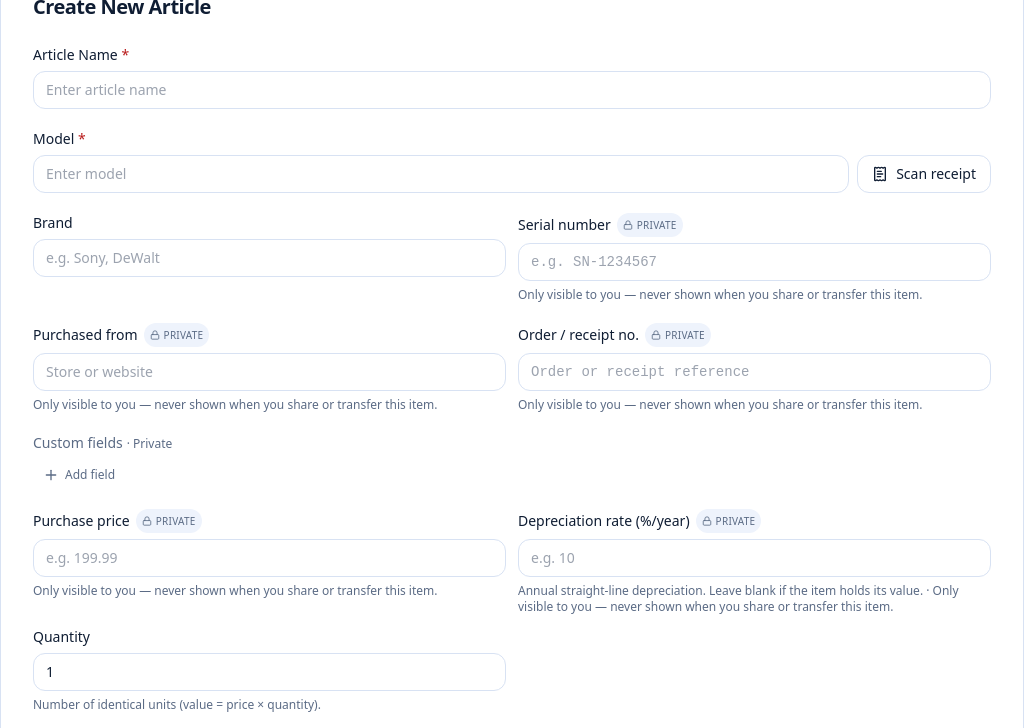
Test: <ArticleForm /> › rejects a negative purchase price with a localized message
This screenshot has width=1024, height=728.
In the field labelled "Article Name *": point(512, 90) [33,71,991,109], type "Drill"
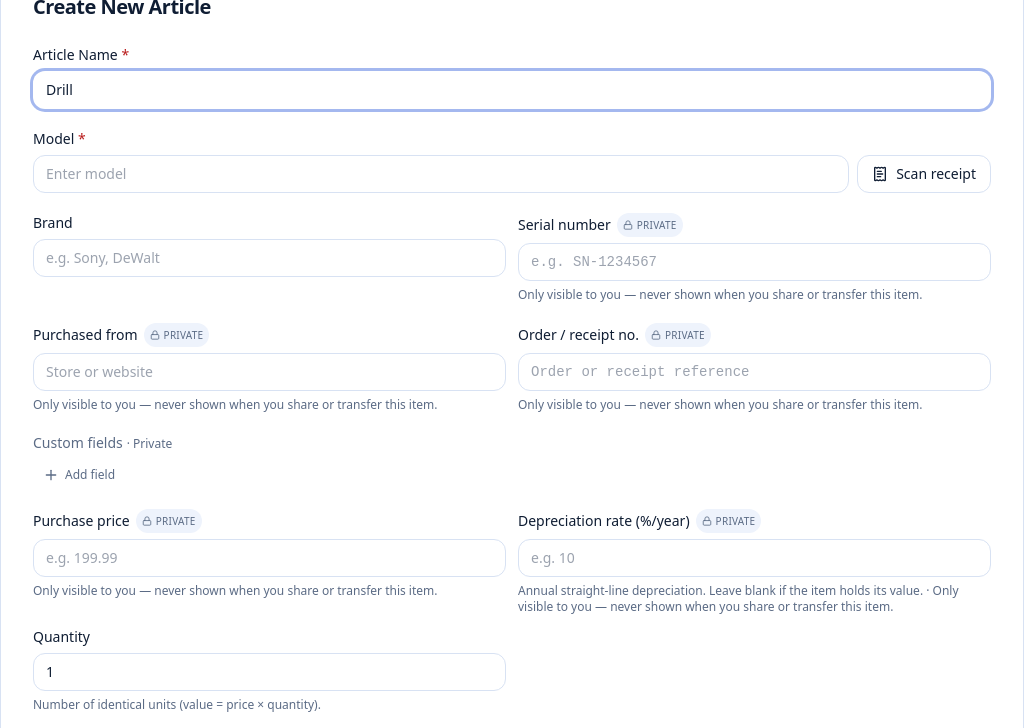
In the field labelled "Model *": point(441, 174) [33,155,849,193], type "DW-100"
(page scrolled)
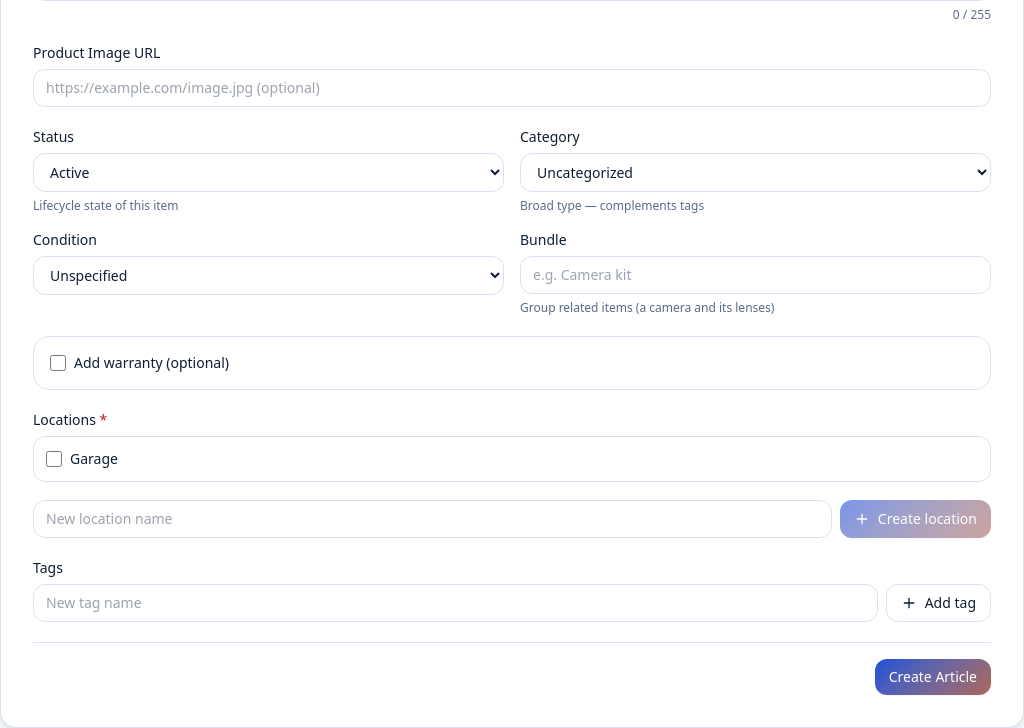
Click the checkbox labelled "Garage": point(54, 459) [46,451,62,467]
(page scrolled)
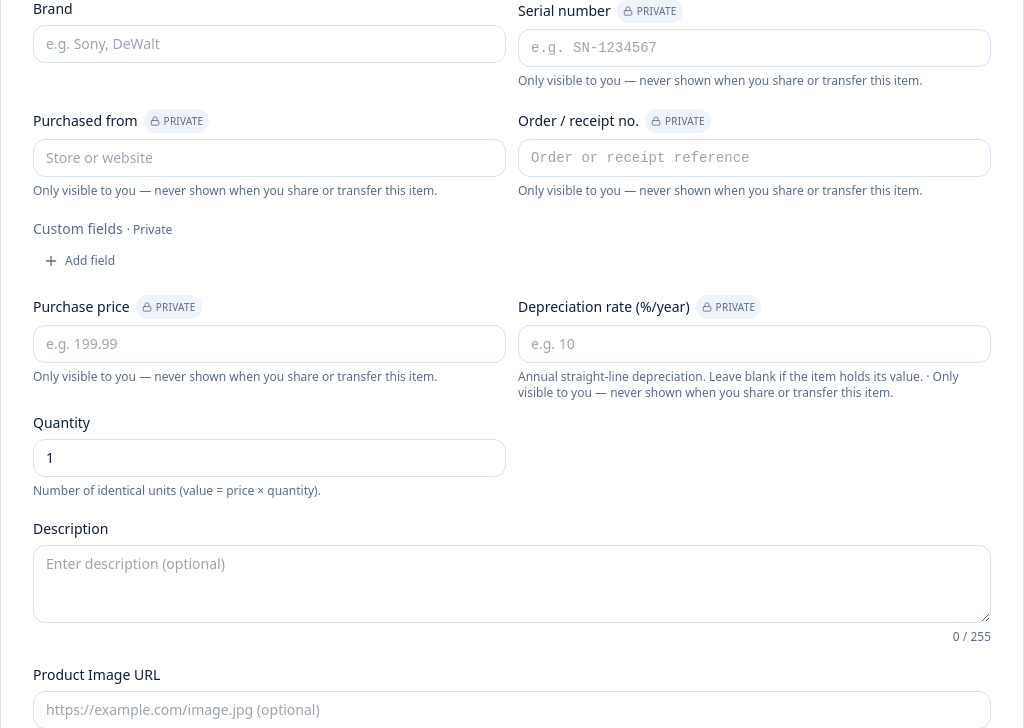
In the number field labelled "Purchase price Private": point(270, 344) [33,325,506,363], type "-5"
(page scrolled)
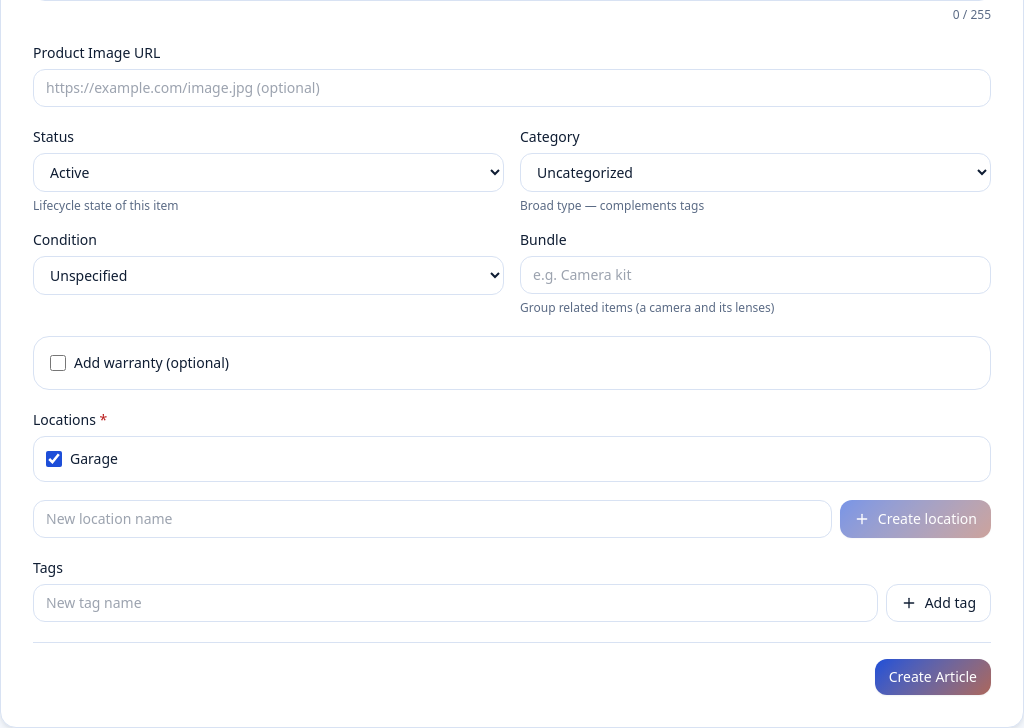
Click the submit button: point(933, 677) [875,659,991,695]
(page scrolled)
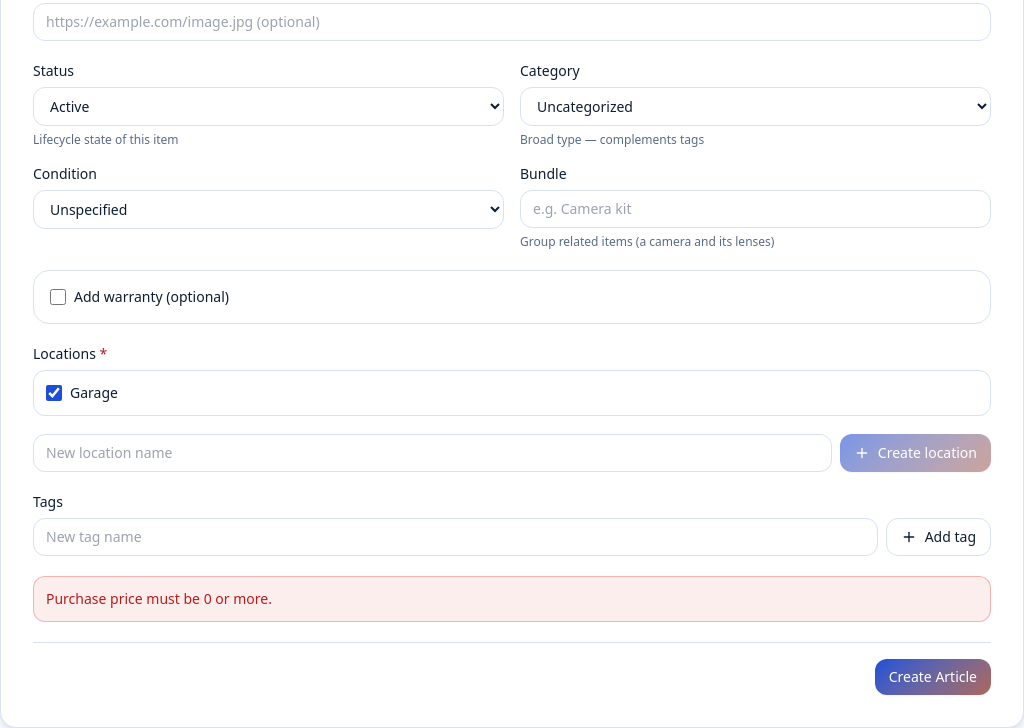
Result: the text "Purchase price must be 0 or more." is shown at [33,576,991,622]
